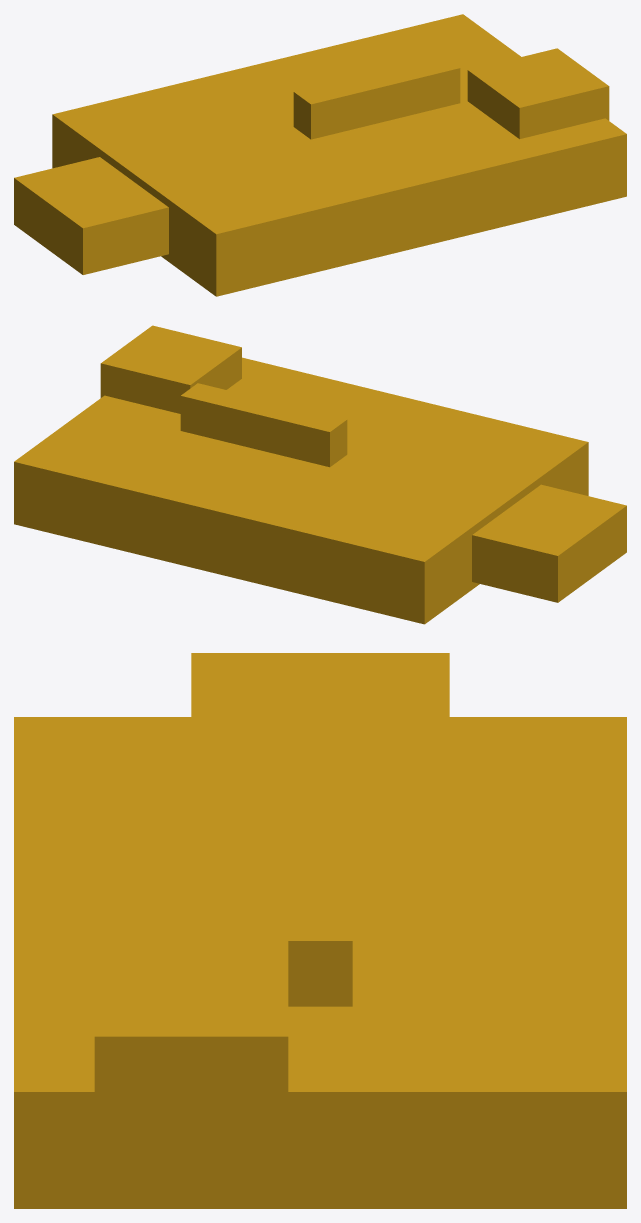
Rendered from fish_saffron_sole.glb.
3 views of the same model, one above another, from view 1: azimuth 30°, elevation 25°; view 2: azimuth 150°, elevation 25°; view 3: azimuth 270°, elevation 25° (orthographic). The views are drawn at different scales.
Parts seen in each view (by area): view 1: species.saffron_sole; view 2: species.saffron_sole; view 3: species.saffron_sole.
Boxes of the visible parts, x1=… form: species.saffron_sole: x1=14, y1=14, x2=626, y2=296; species.saffron_sole: x1=14, y1=325, x2=626, y2=624; species.saffron_sole: x1=14, y1=653, x2=626, y2=1208.
Bounding box in the file's own units: 0.3 × 0.056 × 0.1701.
